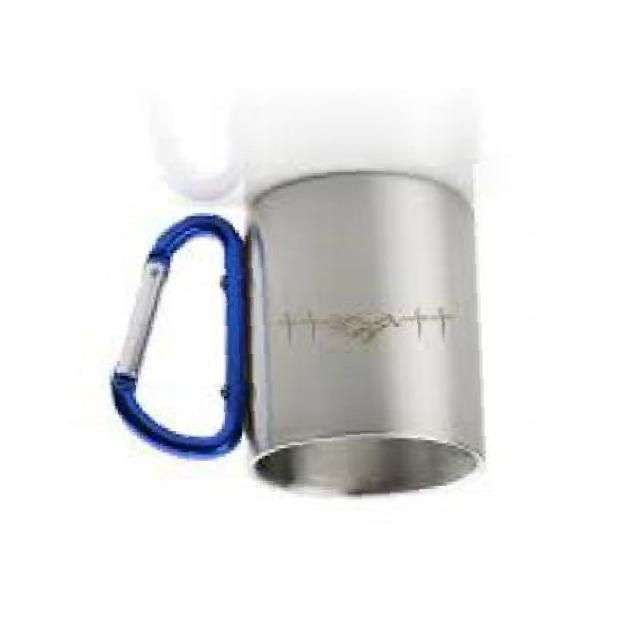cup: (101, 163, 502, 514)
